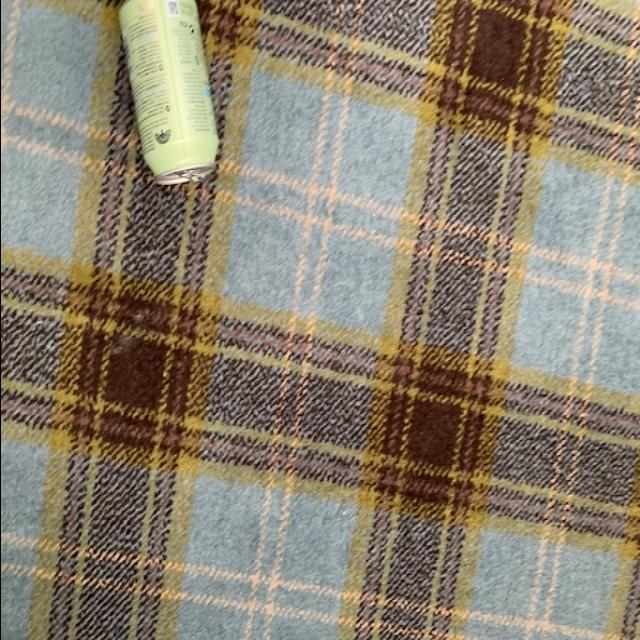Aluminum Can: (101, 1, 221, 192)
